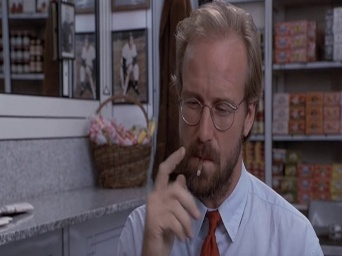smoke: (194, 156, 206, 176)
